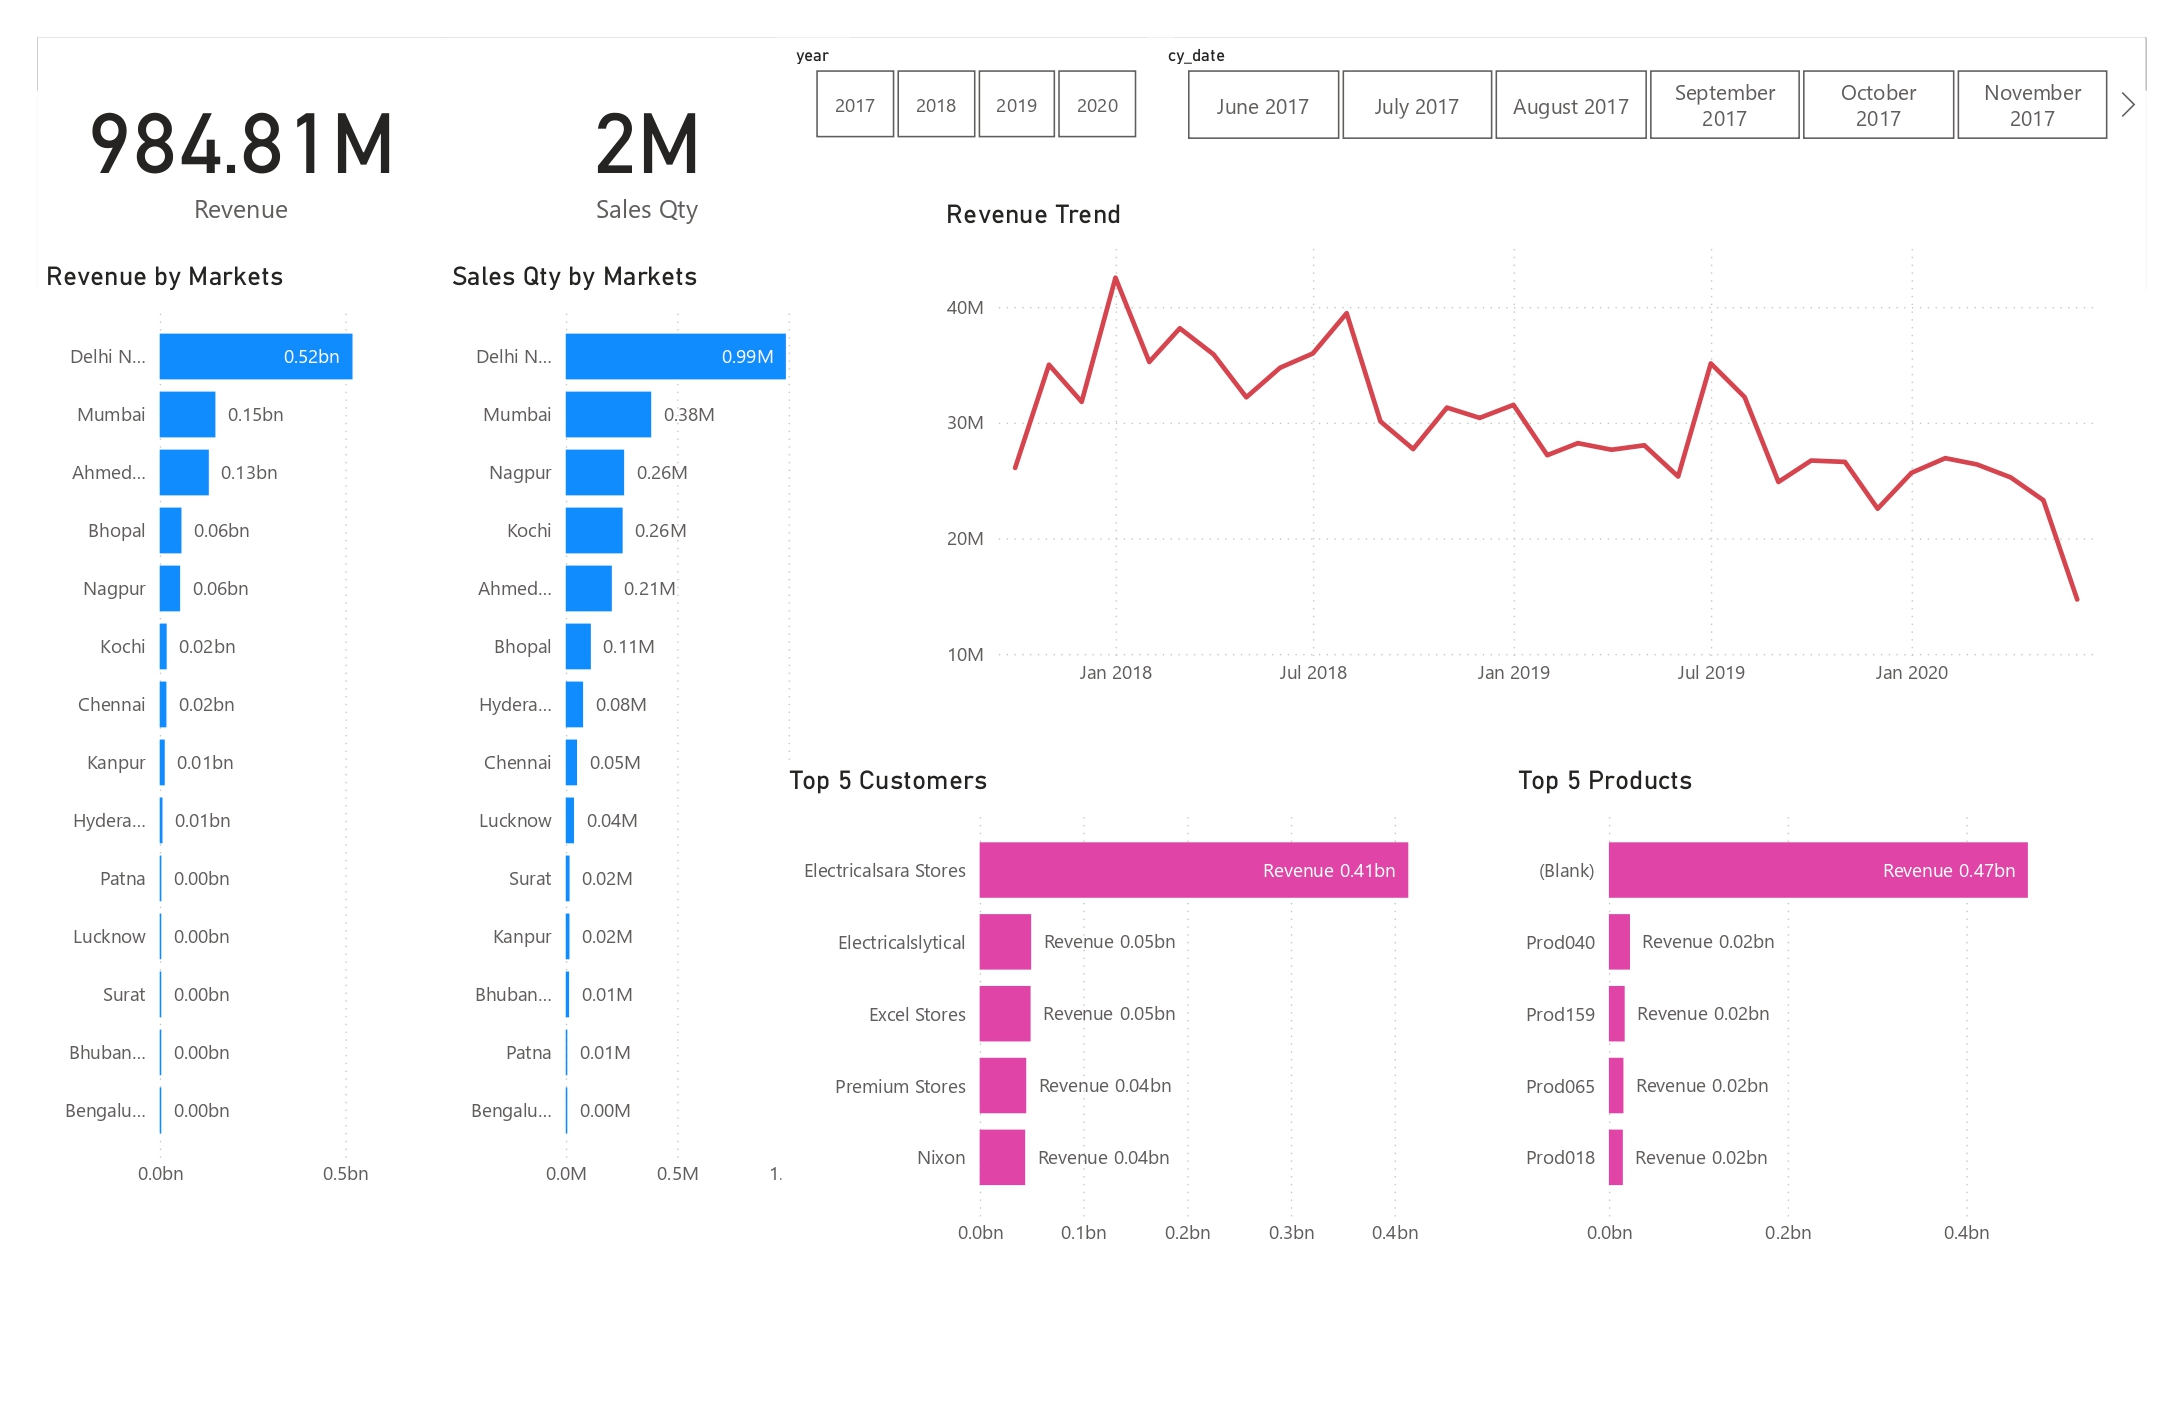

This screenshot's page, from the dashboard's own definition file:
{"tool":"powerbi","page":{"name":"Page 1","canvas":[1350,850],"ordinal":0},"visuals":[{"type":"card","fields":{"Values":["BaseMeasures.Revenue"]},"box":[0,0,260.1,142.8],"z":0},{"type":"card","fields":{"Values":["BaseMeasures.Sales Qty"]},"box":[260.1,0,260.1,142.8],"z":1000},{"type":"clusteredBarChart","title":"Revenue by Markets","fields":{"Y":["BaseMeasures.Revenue"],"Category":["sales markets.markets_name"]},"box":[0,142.8,260.1,603.5],"z":2000},{"type":"clusteredBarChart","title":"Sales Qty by Markets","fields":{"Y":["BaseMeasures.Sales Qty"],"Category":["sales markets.markets_name"]},"box":[260.1,142.8,260.1,603.5],"z":3000},{"type":"slicer","fields":{"Values":["sales date.year"]},"box":[472.6,0,255,71.4],"z":4000},{"type":"slicer","fields":{"Values":["sales date.cy_date"]},"box":[710.6,0,639.2,71.4],"z":5000},{"type":"clusteredBarChart","title":"Top 5 Customers","fields":{"Y":["BaseMeasures.Revenue"],"Category":["sales customers.custmer_name","sales markets.markets_name"]},"box":[476.3,465.3,467.1,318.7],"z":6000},{"type":"clusteredBarChart","title":"Top 5 Products","fields":{"Y":["BaseMeasures.Revenue"],"Category":["sales products.product_code"]},"box":[943.4,465.3,392,318.7],"z":7000},{"type":"lineChart","title":"Revenue Trend","fields":{"Y":["BaseMeasures.Revenue"],"Category":["sales date.cy_date.Variation.Date Hierarchy.Year","sales date.cy_date.Variation.Date Hierarchy.Quarter","sales date.cy_date.Variation.Date Hierarchy.Month","sales date.cy_date.Variation.Date Hierarchy.Day"]},"box":[577,102.6,758.3,322.4],"z":8000}]}

Visuals, with their boxes on the page's 1350x850 design canvas (x1, y1, x2, y2). These are canvas units, not pixel positions in the 2184x1402 screenshot, which may show the page scaled, cropped or inside an application window:
card - BaseMeasures.Revenue: l=0, t=0, r=260, b=143
card - BaseMeasures.Sales Qty: l=260, t=0, r=520, b=143
"Revenue by Markets" clusteredBarChart: l=0, t=143, r=260, b=746
"Sales Qty by Markets" clusteredBarChart: l=260, t=143, r=520, b=746
slicer - sales date.year: l=473, t=0, r=728, b=71
slicer - sales date.cy_date: l=711, t=0, r=1350, b=71
"Top 5 Customers" clusteredBarChart: l=476, t=465, r=943, b=784
"Top 5 Products" clusteredBarChart: l=943, t=465, r=1335, b=784
"Revenue Trend" lineChart: l=577, t=103, r=1335, b=425
